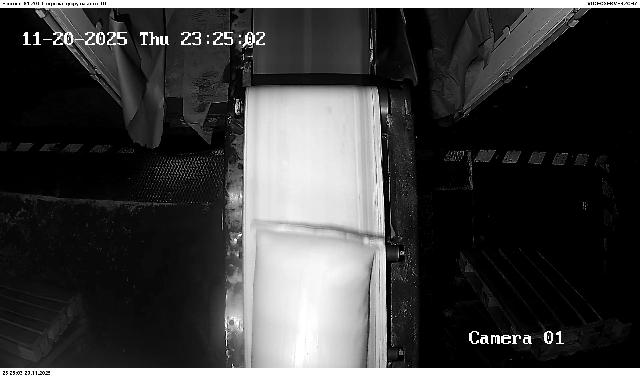bag: (253, 222, 386, 367)
